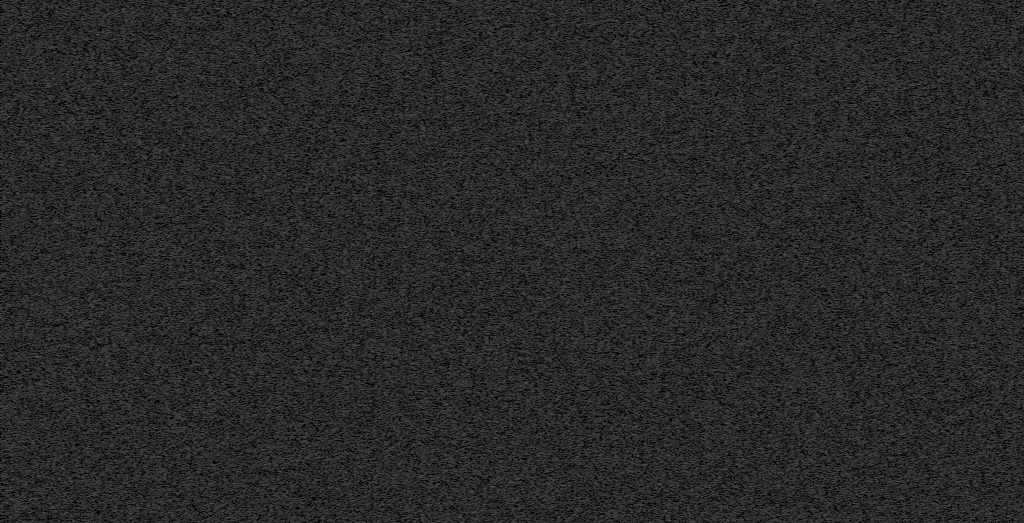wv_am: (921, 0, 926, 522)
wv_lsb: (856, 406, 862, 446), (856, 275, 861, 304), (856, 462, 861, 488), (856, 310, 861, 326), (856, 447, 861, 461), (857, 338, 860, 356), (857, 500, 861, 511), (857, 489, 861, 499), (857, 172, 860, 184), (857, 159, 860, 171), (857, 143, 861, 152), (857, 512, 861, 519), (857, 331, 861, 337), (857, 394, 860, 401), (856, 305, 861, 309), (857, 357, 860, 363), (857, 185, 860, 190), (857, 153, 860, 158), (857, 373, 860, 377), (857, 327, 860, 330)
wv_usb: (899, 430, 905, 522), (900, 58, 905, 121), (900, 6, 905, 57), (900, 140, 904, 185), (900, 205, 904, 218), (900, 122, 904, 133), (900, 229, 904, 237), (900, 291, 904, 298), (900, 261, 904, 267), (900, 198, 904, 203), (900, 192, 904, 197), (900, 186, 904, 191), (900, 134, 904, 139), (900, 420, 904, 424), (901, 425, 904, 429), (900, 327, 904, 330), (900, 306, 904, 309), (900, 285, 904, 288)
wv_wbfm: (701, 0, 729, 522), (873, 0, 896, 522)
